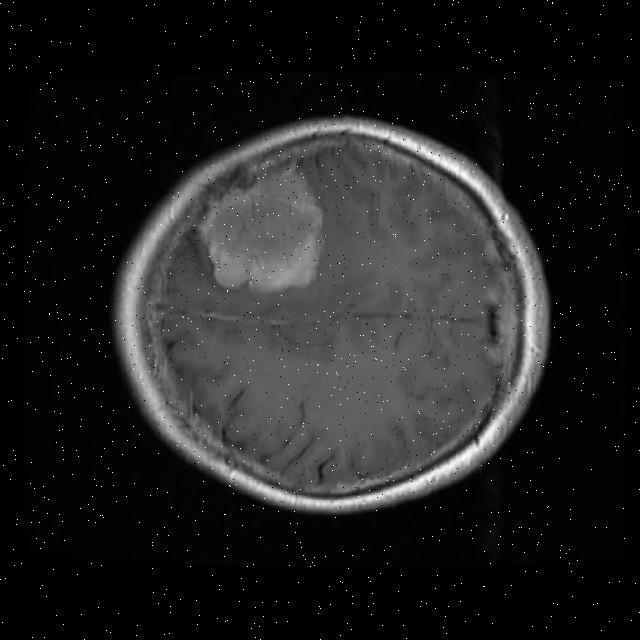Meningioma: (201, 161, 322, 293)
